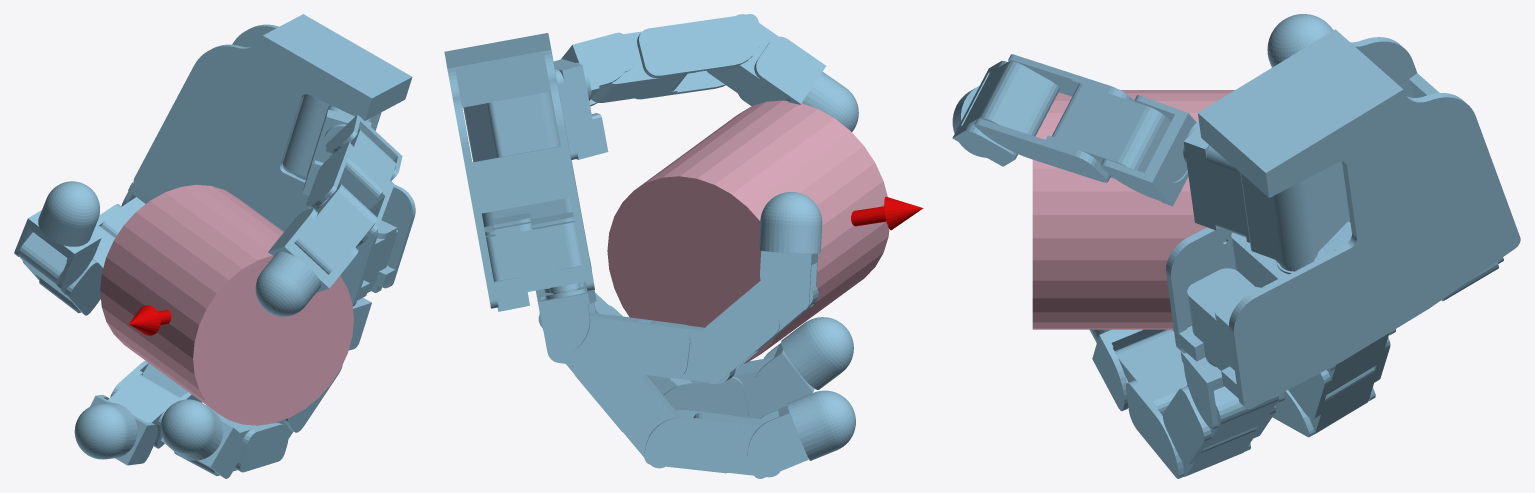
3 renders of one model, left to right at view 1: azimuth 30°, elevation 25°; view 2: azimuth 150°, elevation 25°; view 3: azimuth 270°, elevation 25°, orthographic. The views are drawn at different scales.
Parts seen in each view (by area): view 1: world, cylinder_medium.stl; view 2: world, cylinder_medium.stl; view 3: world, cylinder_medium.stl.
Part boxes in pixels (<box>): world: <box>14,14,415,478</box>; cylinder_medium.stl: <box>100,184,353,425</box>; world: <box>444,14,923,478</box>; cylinder_medium.stl: <box>607,100,889,363</box>; world: <box>952,14,1520,478</box>; cylinder_medium.stl: <box>1032,90,1234,329</box>.
Size of the model in its own units: 0.1802 by 0.1758 by 0.1895.
